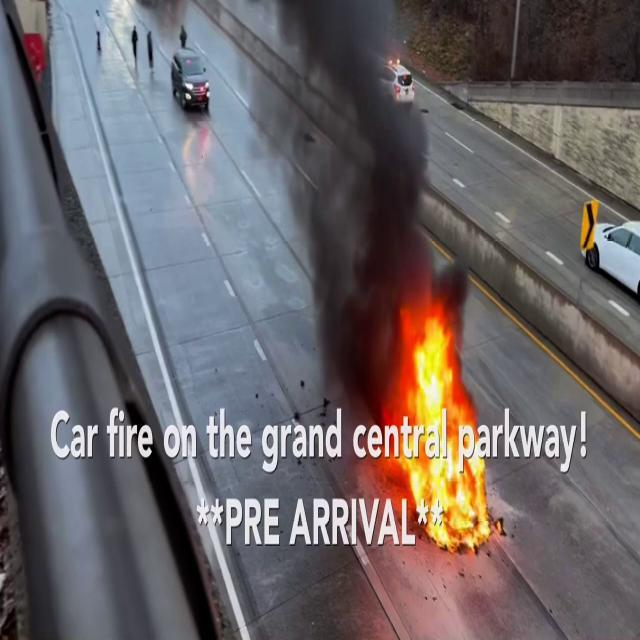Fire: (392, 302, 492, 549)
Smoke: (252, 1, 450, 363)
